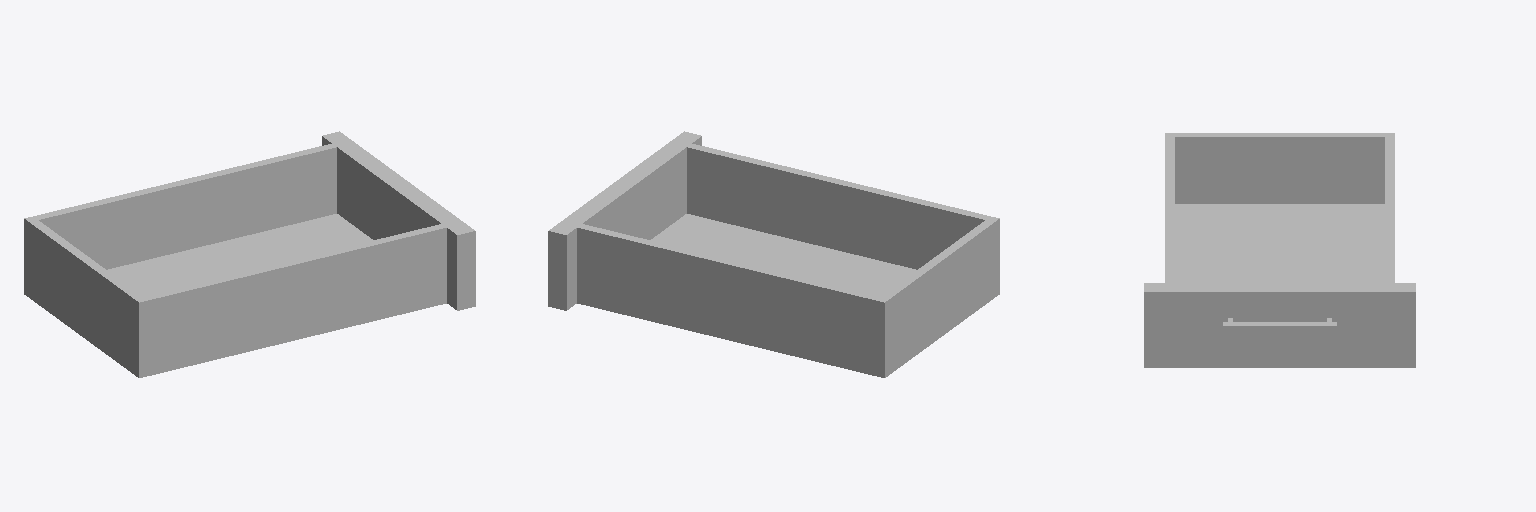
File: multidecor_wooden_desk_drawer.obj
3 views of the same model, side by side, from view 1: azimuth 30°, elevation 25°; view 2: azimuth 150°, elevation 25°; view 3: azimuth 270°, elevation 25° (orthographic).
Visible parts, largest first — view 1: Cube.001_Cube.005; view 2: Cube.001_Cube.005; view 3: Cube.001_Cube.005.
Boxes of the visible parts, box(x1,y1,x2,y2) form: Cube.001_Cube.005: box(24, 131, 475, 377); Cube.001_Cube.005: box(548, 131, 999, 377); Cube.001_Cube.005: box(1144, 133, 1415, 367).
Bounding box in the file's own units: 1.93 × 0.4 × 1.3.